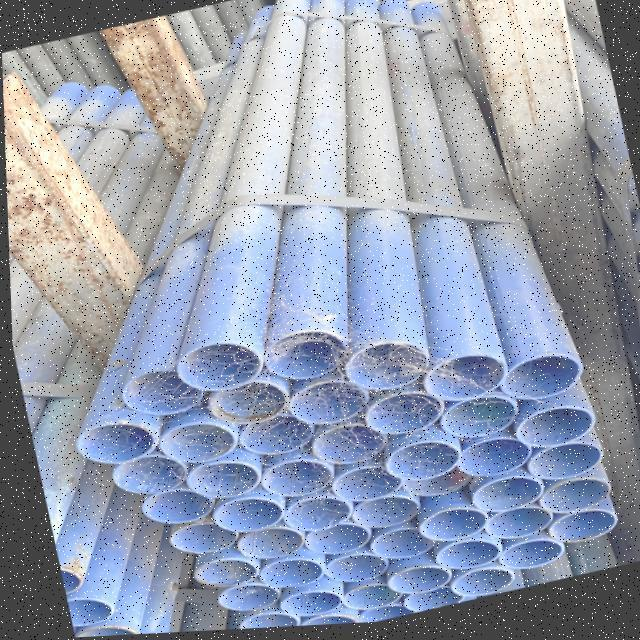pipe: (258, 330, 343, 383), (282, 373, 363, 428), (115, 367, 201, 418), (170, 341, 255, 391), (343, 346, 427, 396), (229, 416, 320, 459), (498, 360, 581, 407), (508, 410, 590, 457), (417, 357, 495, 406), (201, 380, 283, 426), (151, 416, 231, 463), (516, 444, 599, 488), (105, 453, 186, 498), (362, 391, 439, 438), (300, 424, 382, 468), (378, 440, 456, 485), (73, 419, 152, 463), (435, 397, 511, 441), (163, 517, 246, 557), (200, 489, 275, 533), (137, 491, 226, 528), (449, 440, 527, 482), (463, 480, 542, 521), (255, 459, 327, 503), (175, 459, 254, 499), (222, 524, 296, 565), (469, 510, 553, 545), (354, 529, 438, 564), (273, 496, 344, 536), (323, 469, 397, 507), (343, 496, 414, 534), (290, 525, 367, 559), (546, 514, 614, 552), (410, 510, 479, 547), (213, 583, 284, 617), (188, 557, 256, 592), (392, 469, 466, 501), (317, 553, 383, 588), (377, 568, 451, 599), (492, 542, 556, 575), (248, 558, 314, 590), (541, 486, 606, 517), (427, 542, 490, 573), (267, 590, 333, 618), (445, 571, 508, 600), (333, 585, 395, 613), (285, 605, 357, 629), (396, 588, 456, 615), (346, 603, 408, 626), (232, 614, 294, 631), (66, 602, 109, 626), (70, 626, 131, 638)
